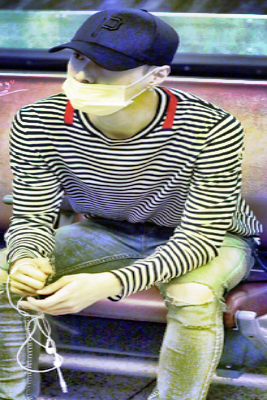mask_weared_incorrect: (66, 52, 143, 115)
